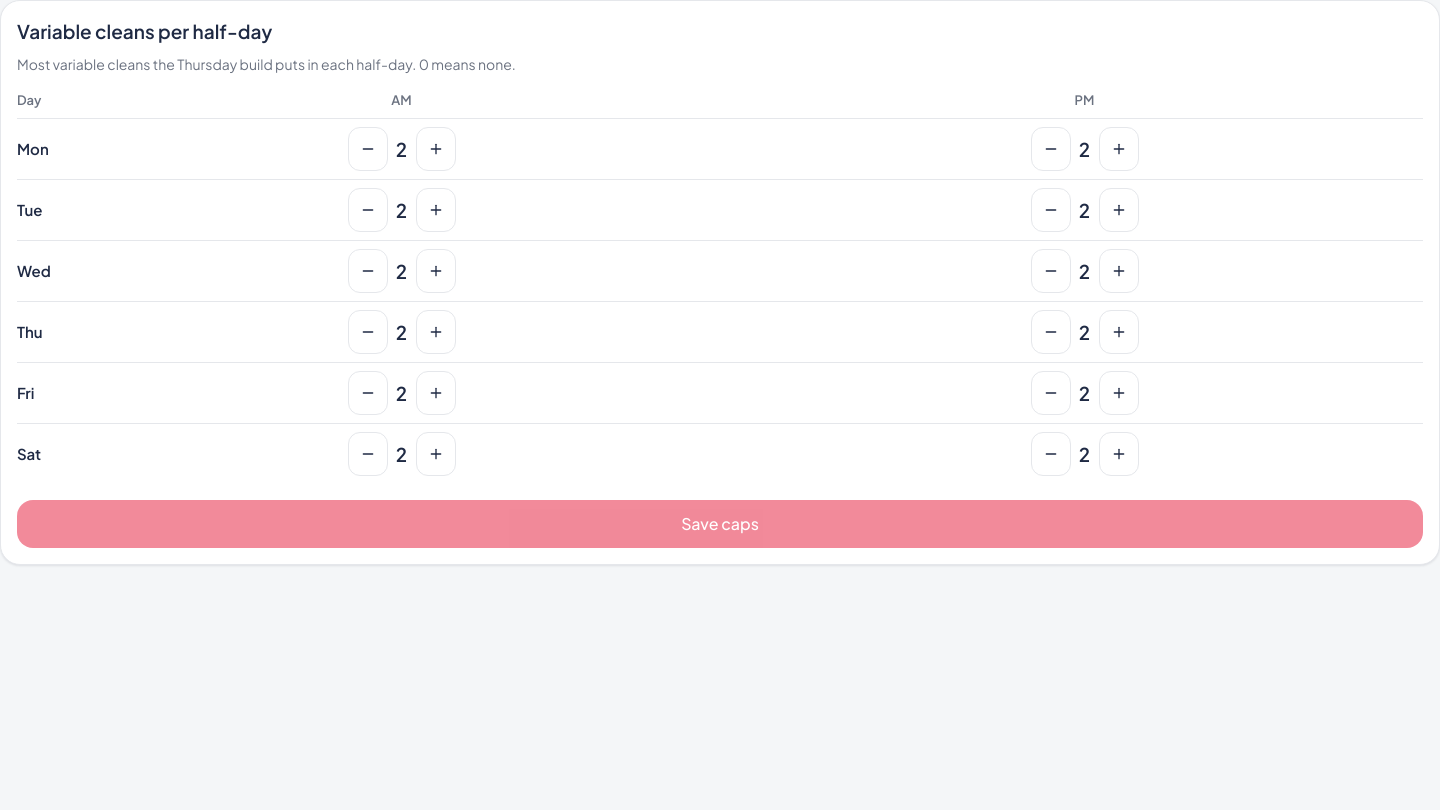
Test: SettingsCapsGrid › shows the server's message and keeps the edit when the save fails
Click the button named "More for AM on Friday". click: (436, 393)
box: [416,371,456,415]
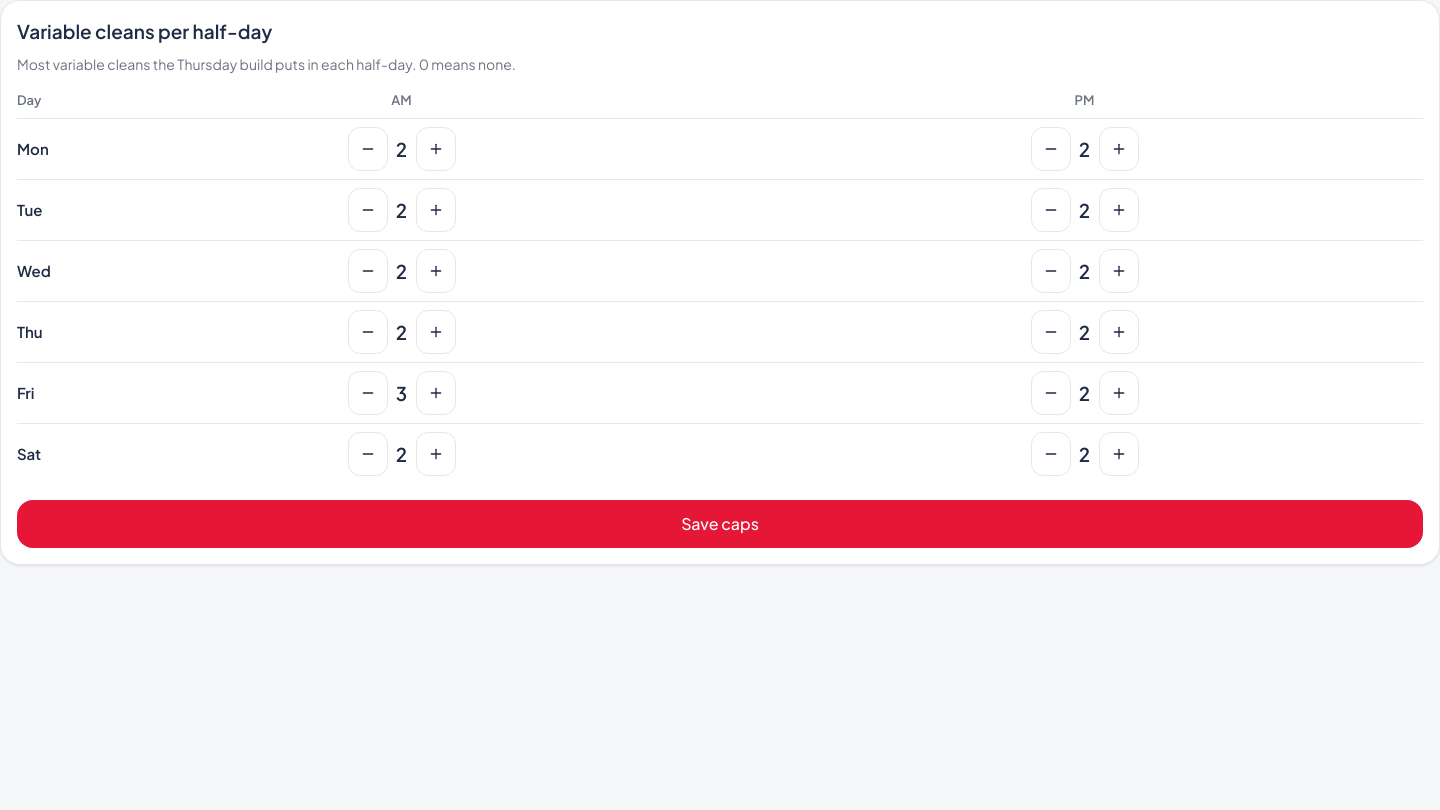
Click the button "Save caps". click: (720, 524)
box: [17,500,1423,548]
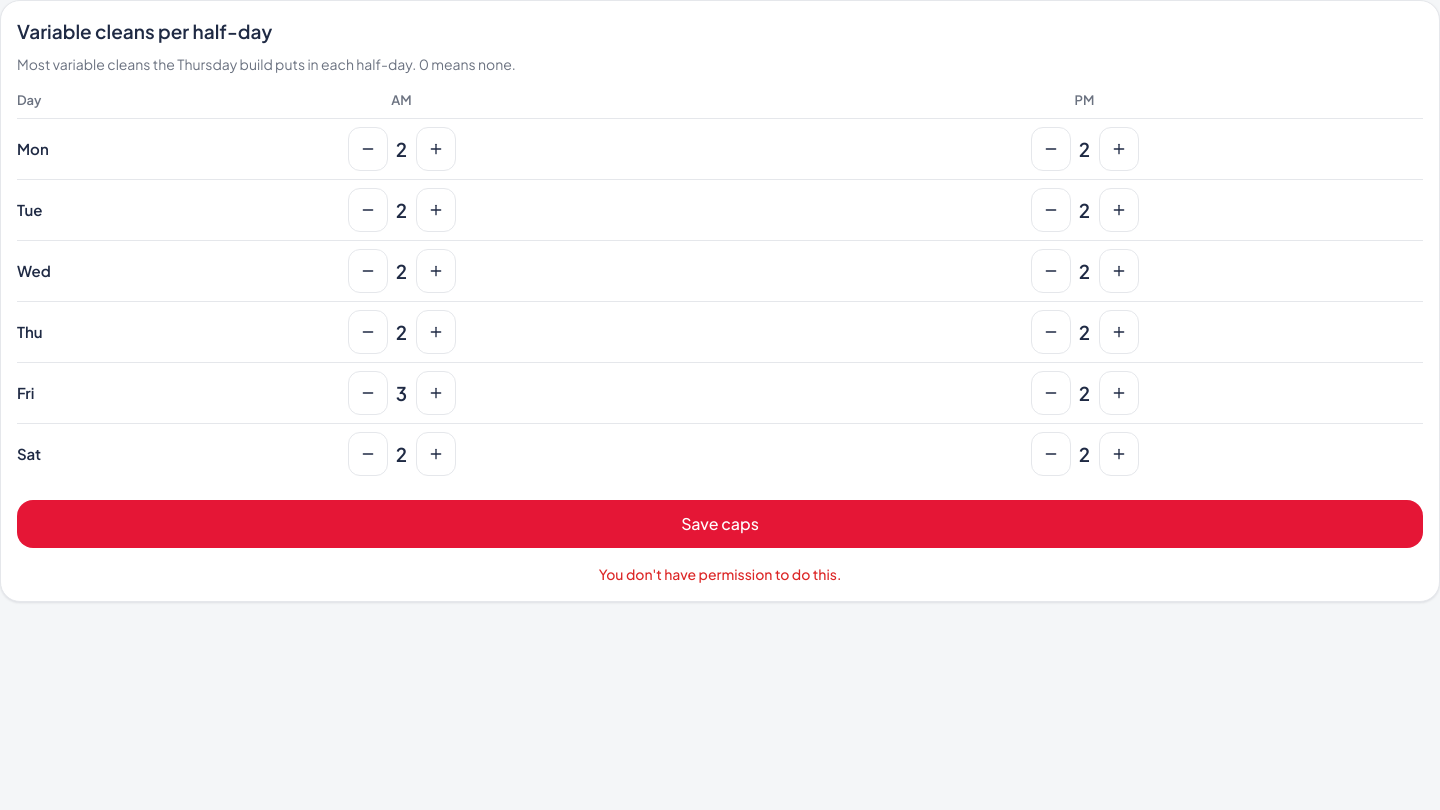
expect the text "3" is shown: met, box [396,381,407,405]
expect the button "Save caps" is enabled: met, box [17,500,1423,548]
expect the message reads "You don't have permission to do this.": met, box [599,565,841,583]
